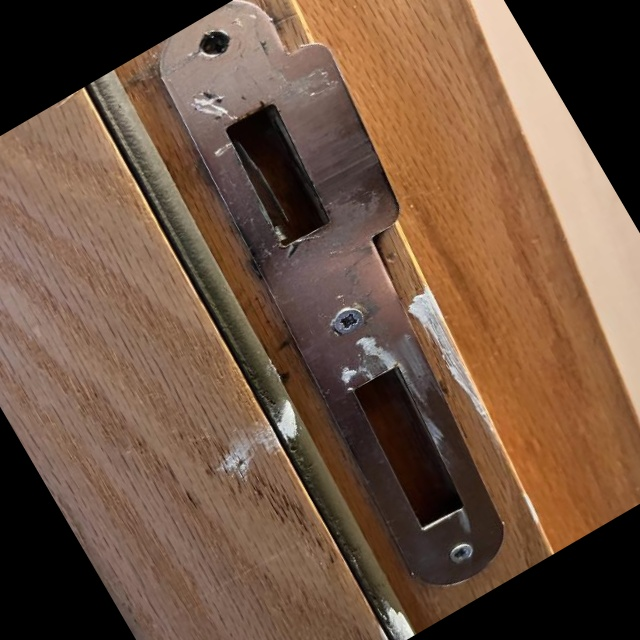pozidriv: (329, 303, 369, 339)
